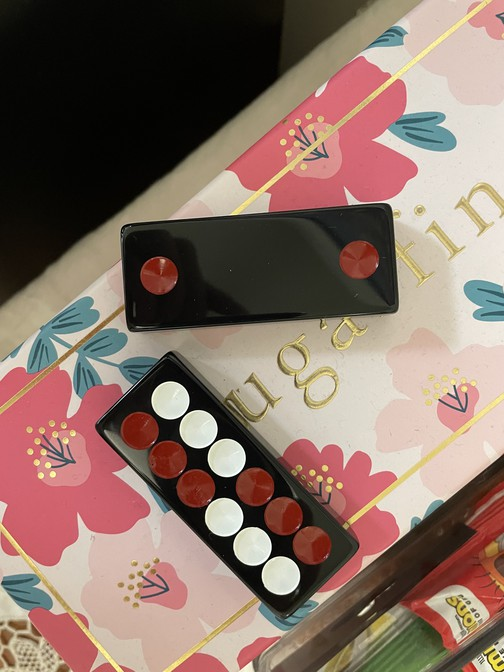earth: (121, 202, 401, 332)
heaven: (97, 351, 362, 615)
